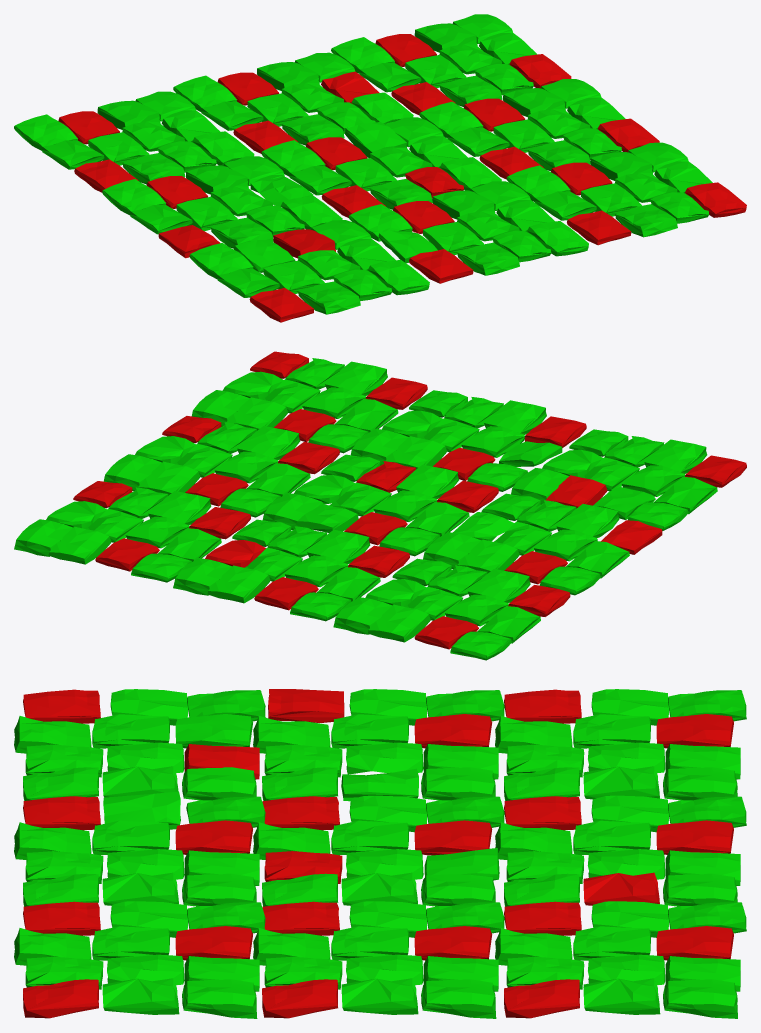
The model's file is Cobblestone_03.fbx.
3 views of the same model, one above another, from view 1: azimuth 30°, elevation 25°; view 2: azimuth 150°, elevation 25°; view 3: azimuth 270°, elevation 25° (orthographic). The views are drawn at different scales.
Parts seen in each view (by area): view 1: Plane.009; view 2: Plane.009; view 3: Plane.009.
Part boxes in pixels (x1=…): Plane.009: x1=14, y1=14, x2=746, y2=322; Plane.009: x1=14, y1=351, x2=746, y2=660; Plane.009: x1=14, y1=689, x2=746, y2=1018.
Bounding box in the file's own units: 616 × 19.45 × 602.
